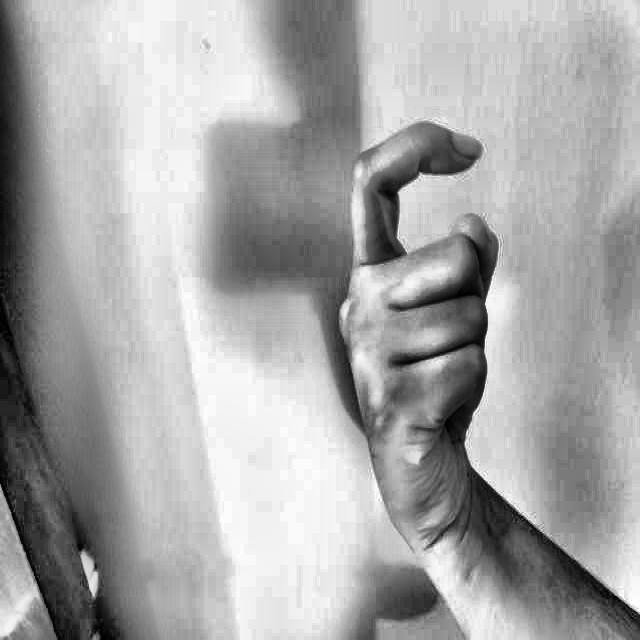E: (310, 64, 556, 539)
